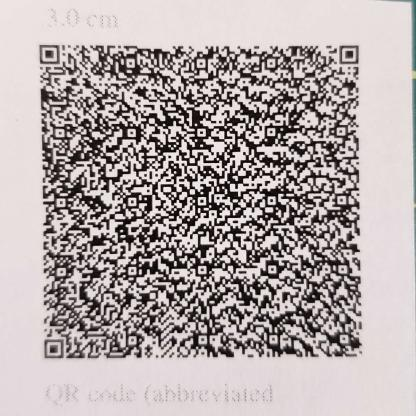qr: (36, 42, 367, 362)
